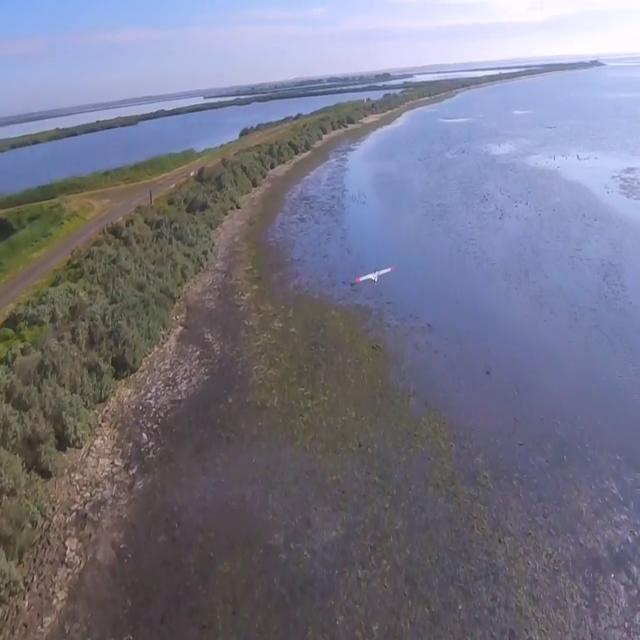iha: (354, 265, 394, 291)
